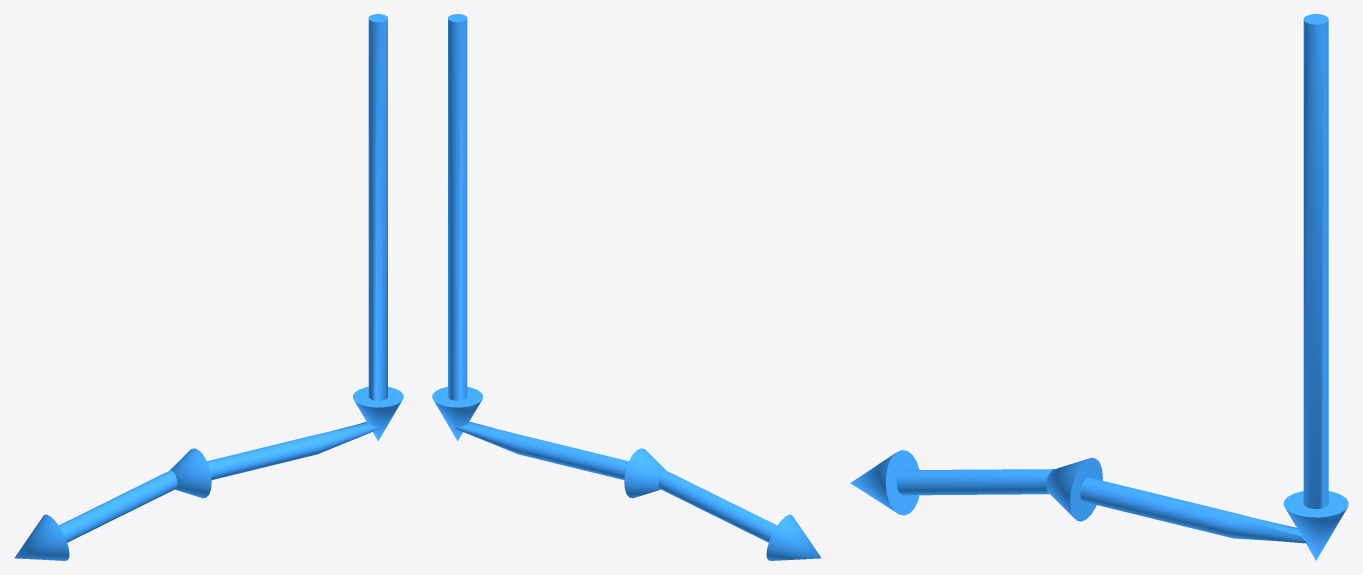
Rendered from mechanical_cartridge_seal_flow.glb.
3 views of the same model, side by side, from view 1: azimuth 30°, elevation 25°; view 2: azimuth 150°, elevation 25°; view 3: azimuth 330°, elevation 25° (orthographic). The views are drawn at different scales.
Parts seen in each view (by area): view 1: flush; view 2: flush; view 3: flush.
Part boxes in pixels (bbox=[...]): flush: bbox=[14, 14, 403, 560]; flush: bbox=[432, 14, 821, 560]; flush: bbox=[850, 14, 1348, 560].
Bounding box in the file's own units: 0.1356 × 0.1555 × 0.0156.
